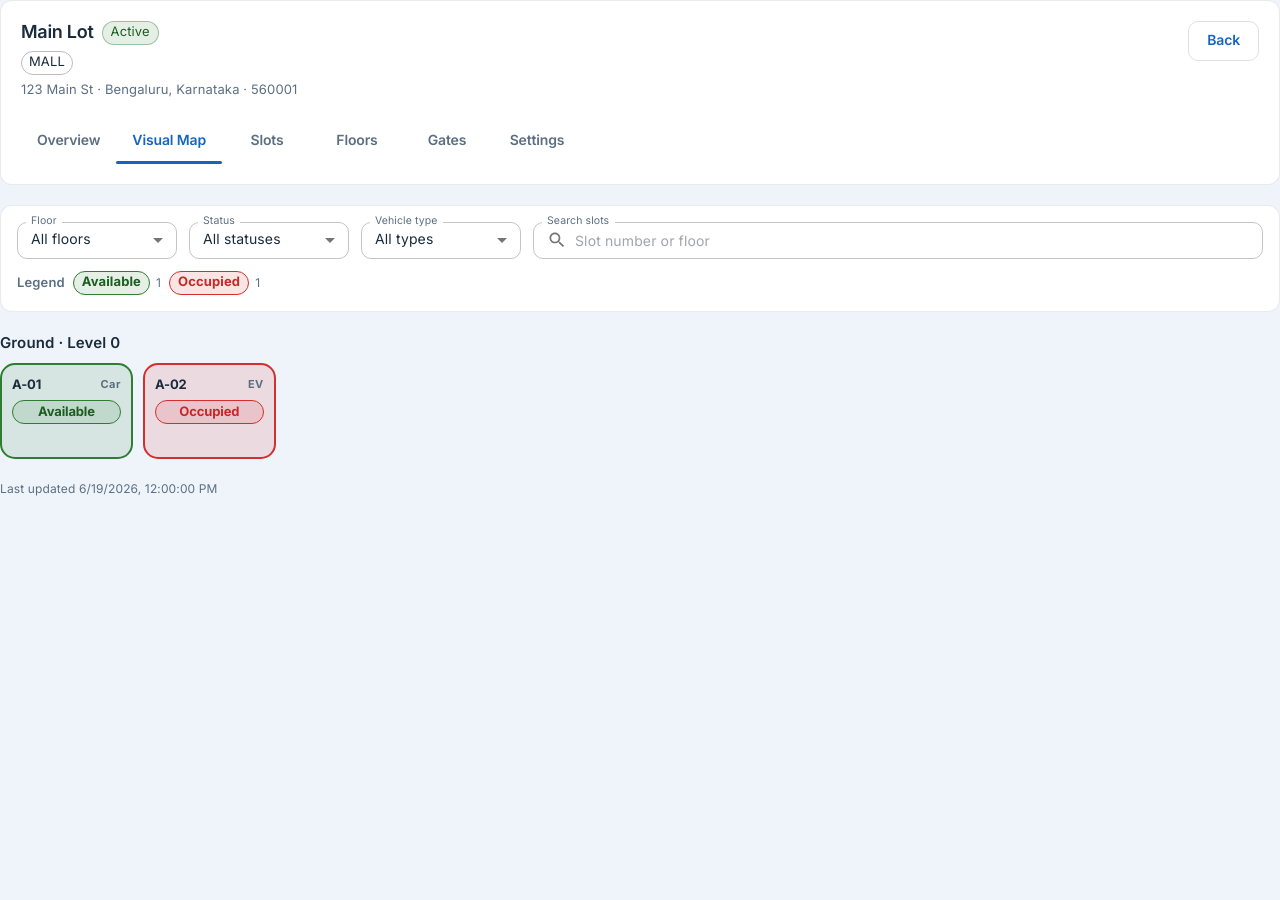
VisualSlotMapPage › opens the slot detail drawer when a slot card is clicked
Click the button with aria-label "a-02, occupied, ev": (209, 411) [143,363,276,459]
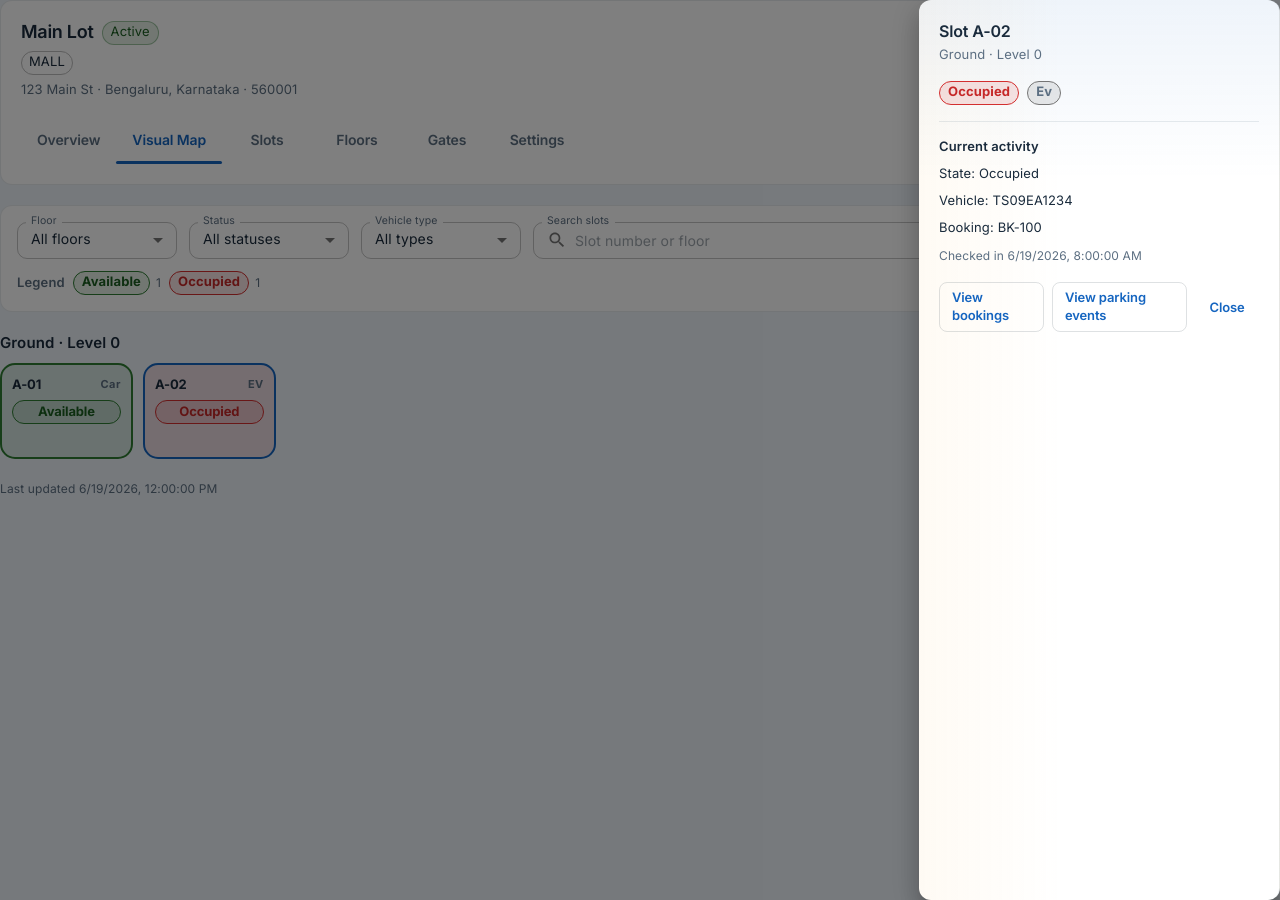
Now the heading "Slot A-02" is shown, box [939,21,1011,41]
Now the text "Vehicle: TS09EA1234" is shown, box [939,193,1073,209]
